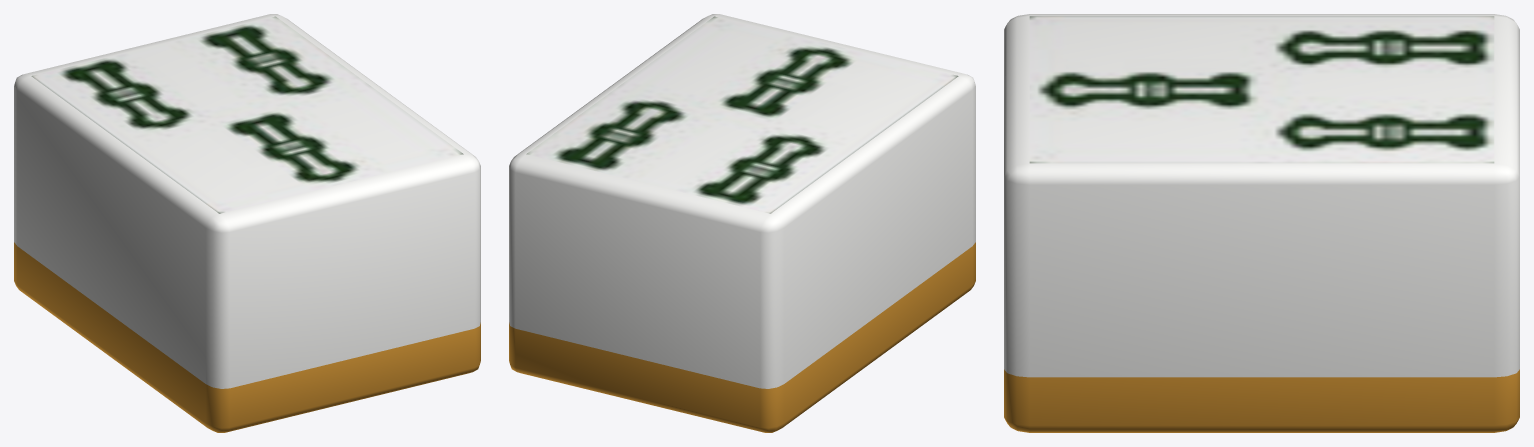
The picture shows the model from 3 angles, left to right: view 1: azimuth 30°, elevation 25°; view 2: azimuth 150°, elevation 25°; view 3: azimuth 270°, elevation 25°; orthographic projection. The views are drawn at different scales.
Parts seen in each view (by area): view 1: hai; view 2: hai; view 3: hai.
Boxes of the visible parts, x1,y1,x2,y2 form: hai: [14, 14, 480, 432]; hai: [509, 14, 975, 432]; hai: [1004, 14, 1519, 432].
Bounding box in the file's own units: 420 × 320 × 560.
Materials: 3 (1 with a texture image).
